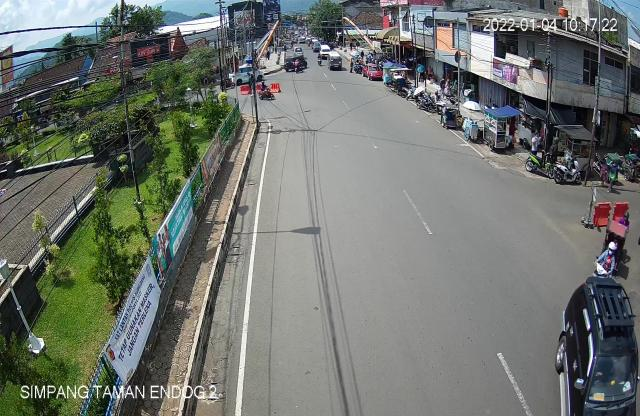Becak: (602, 210, 631, 253)
Mobil: (552, 274, 640, 416)
Motor: (525, 143, 555, 184), (554, 154, 588, 189), (595, 242, 619, 277)
